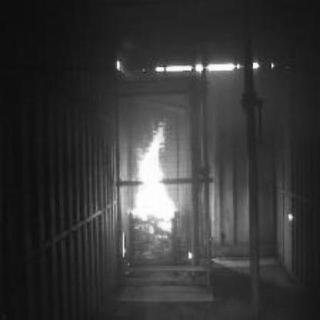other: (287, 212, 295, 220)
